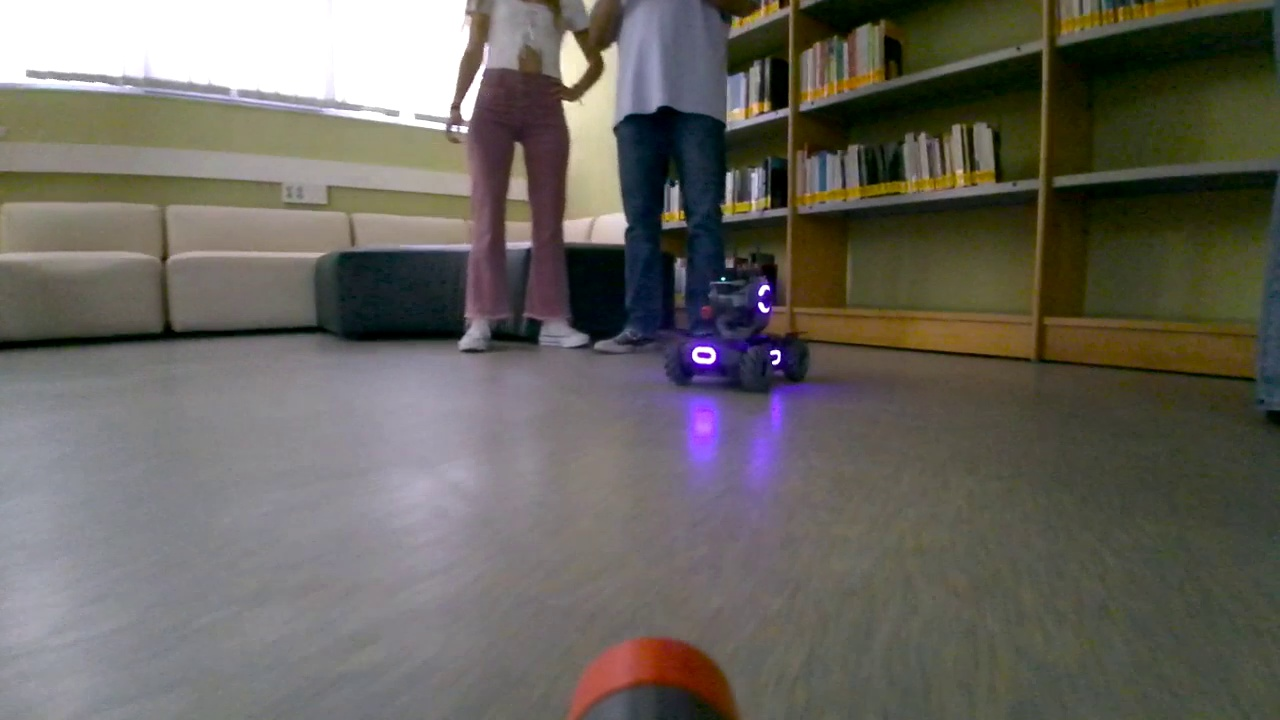robot: (663, 272, 813, 398)
